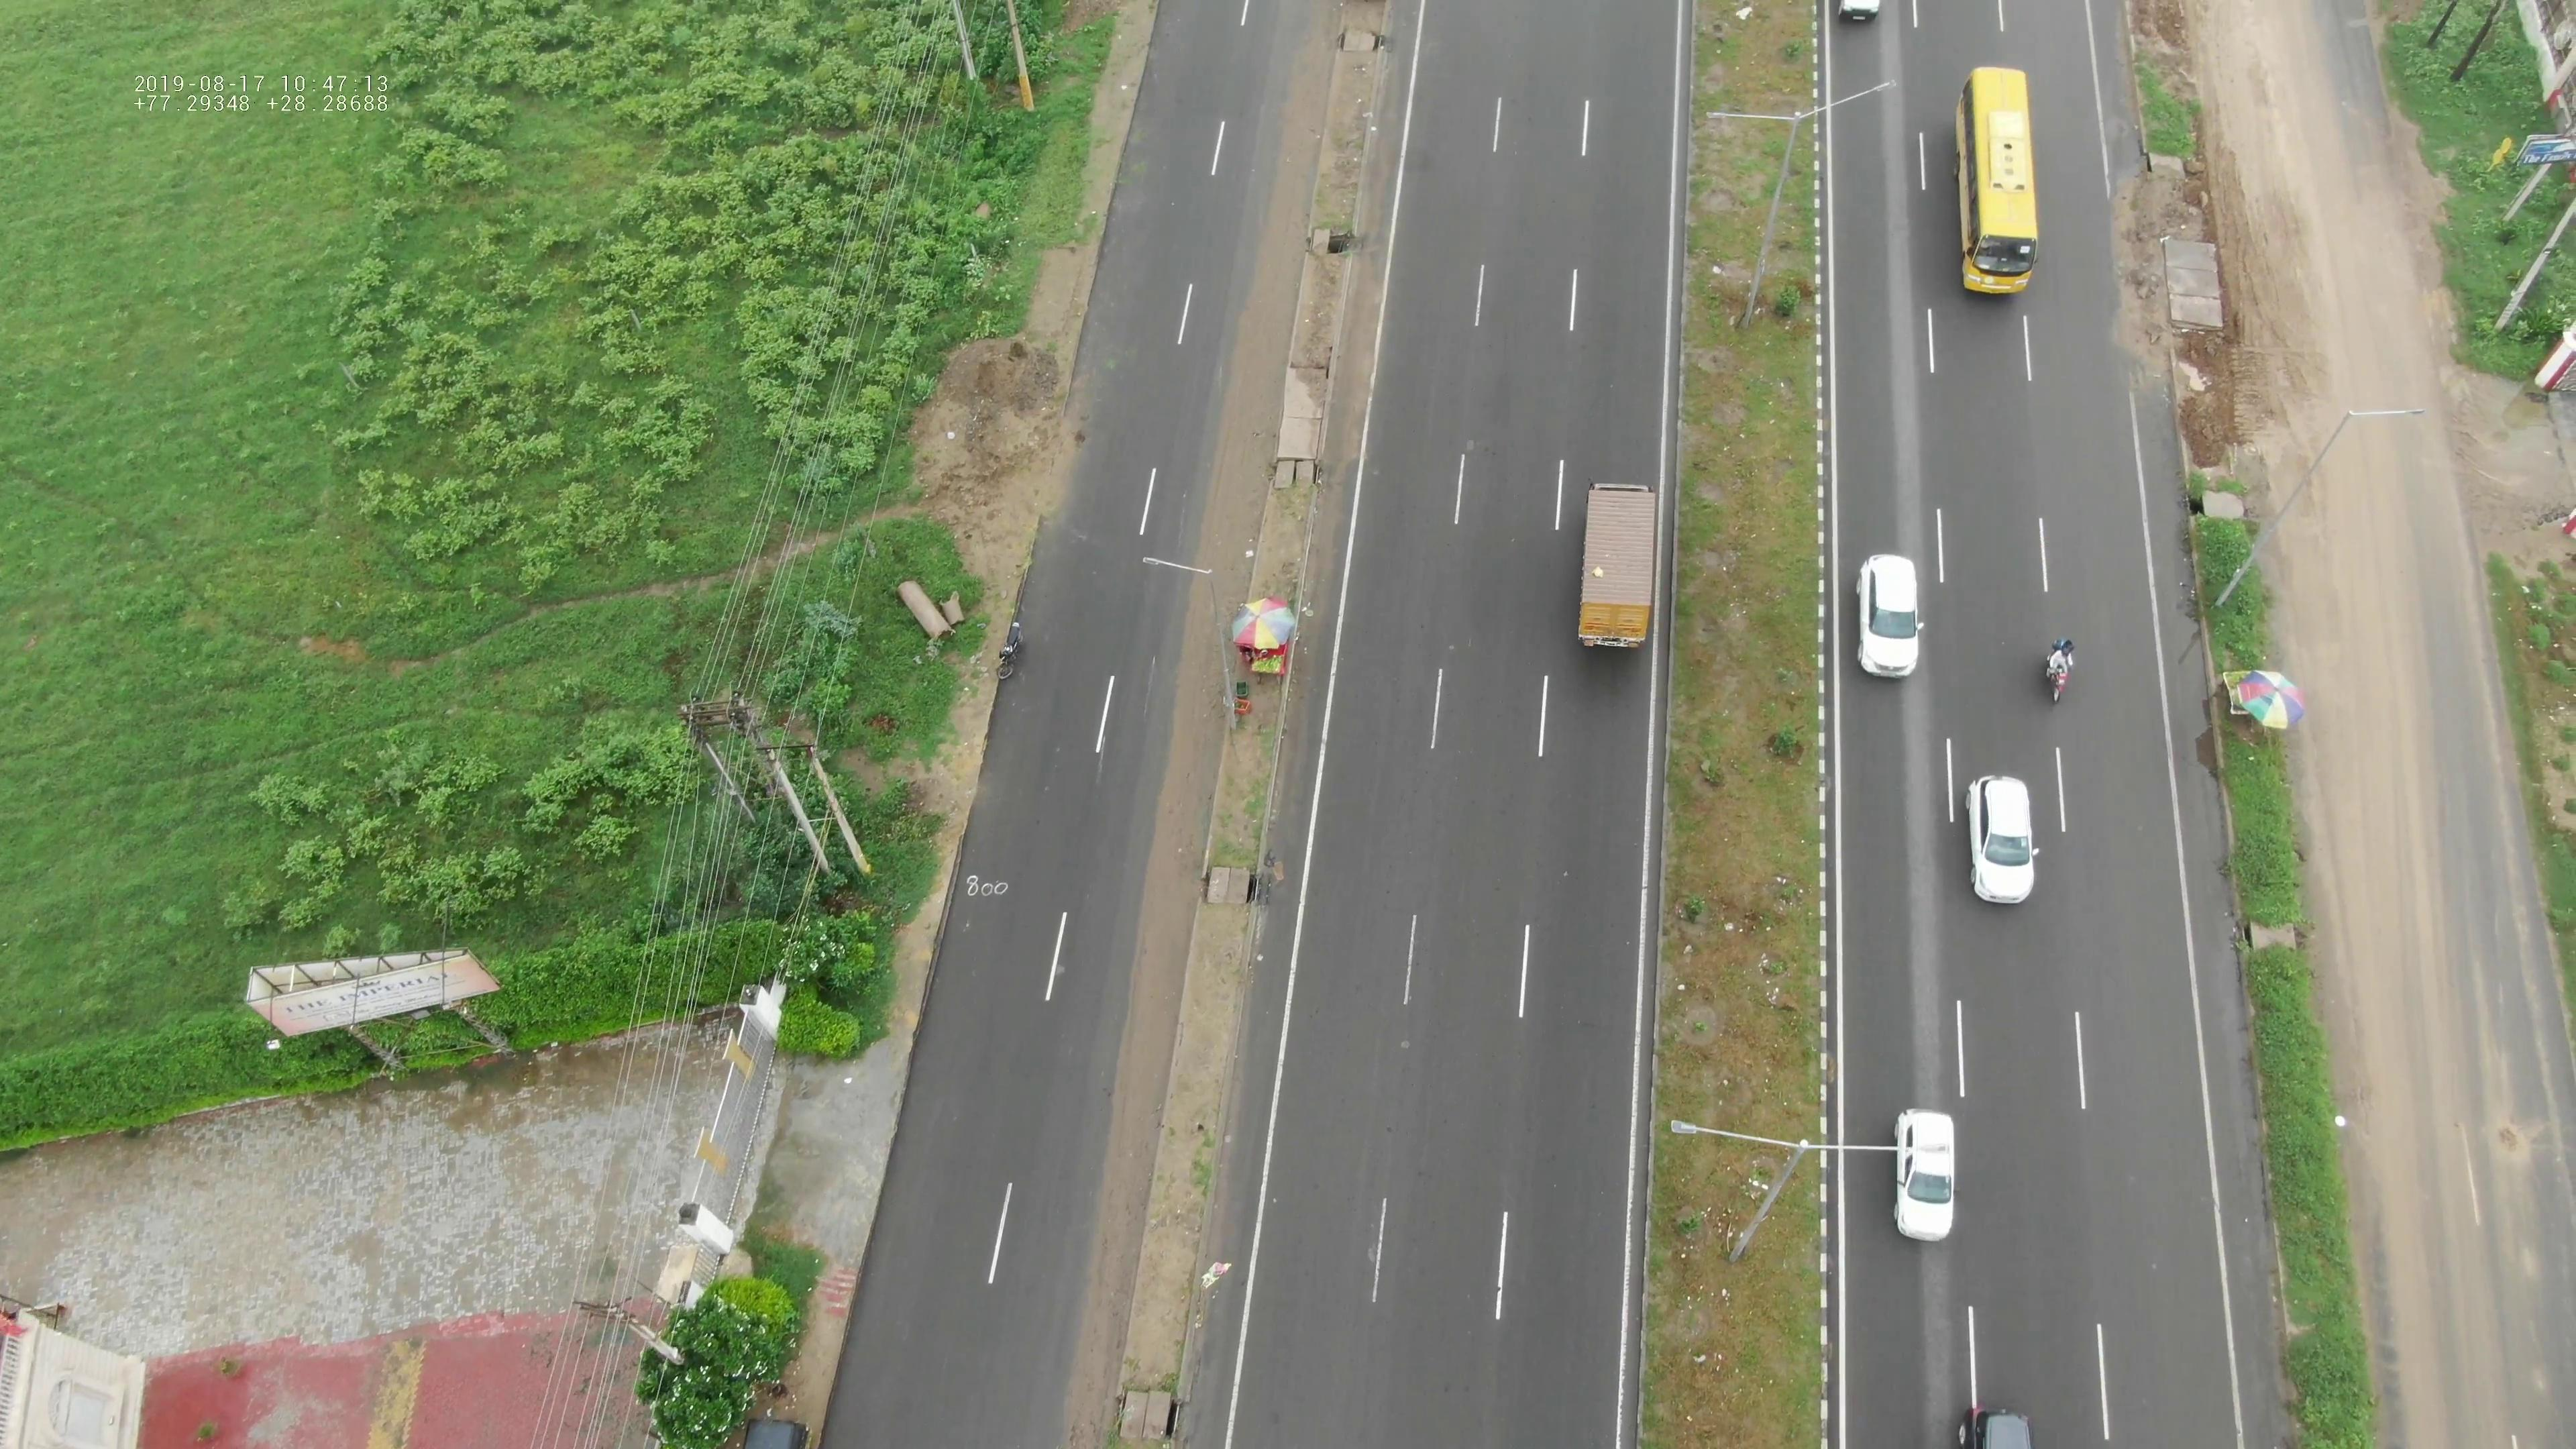Muddy_road: (2199, 23, 2318, 449)
